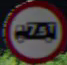Heavy Vehicles: (10, 4, 62, 55)
